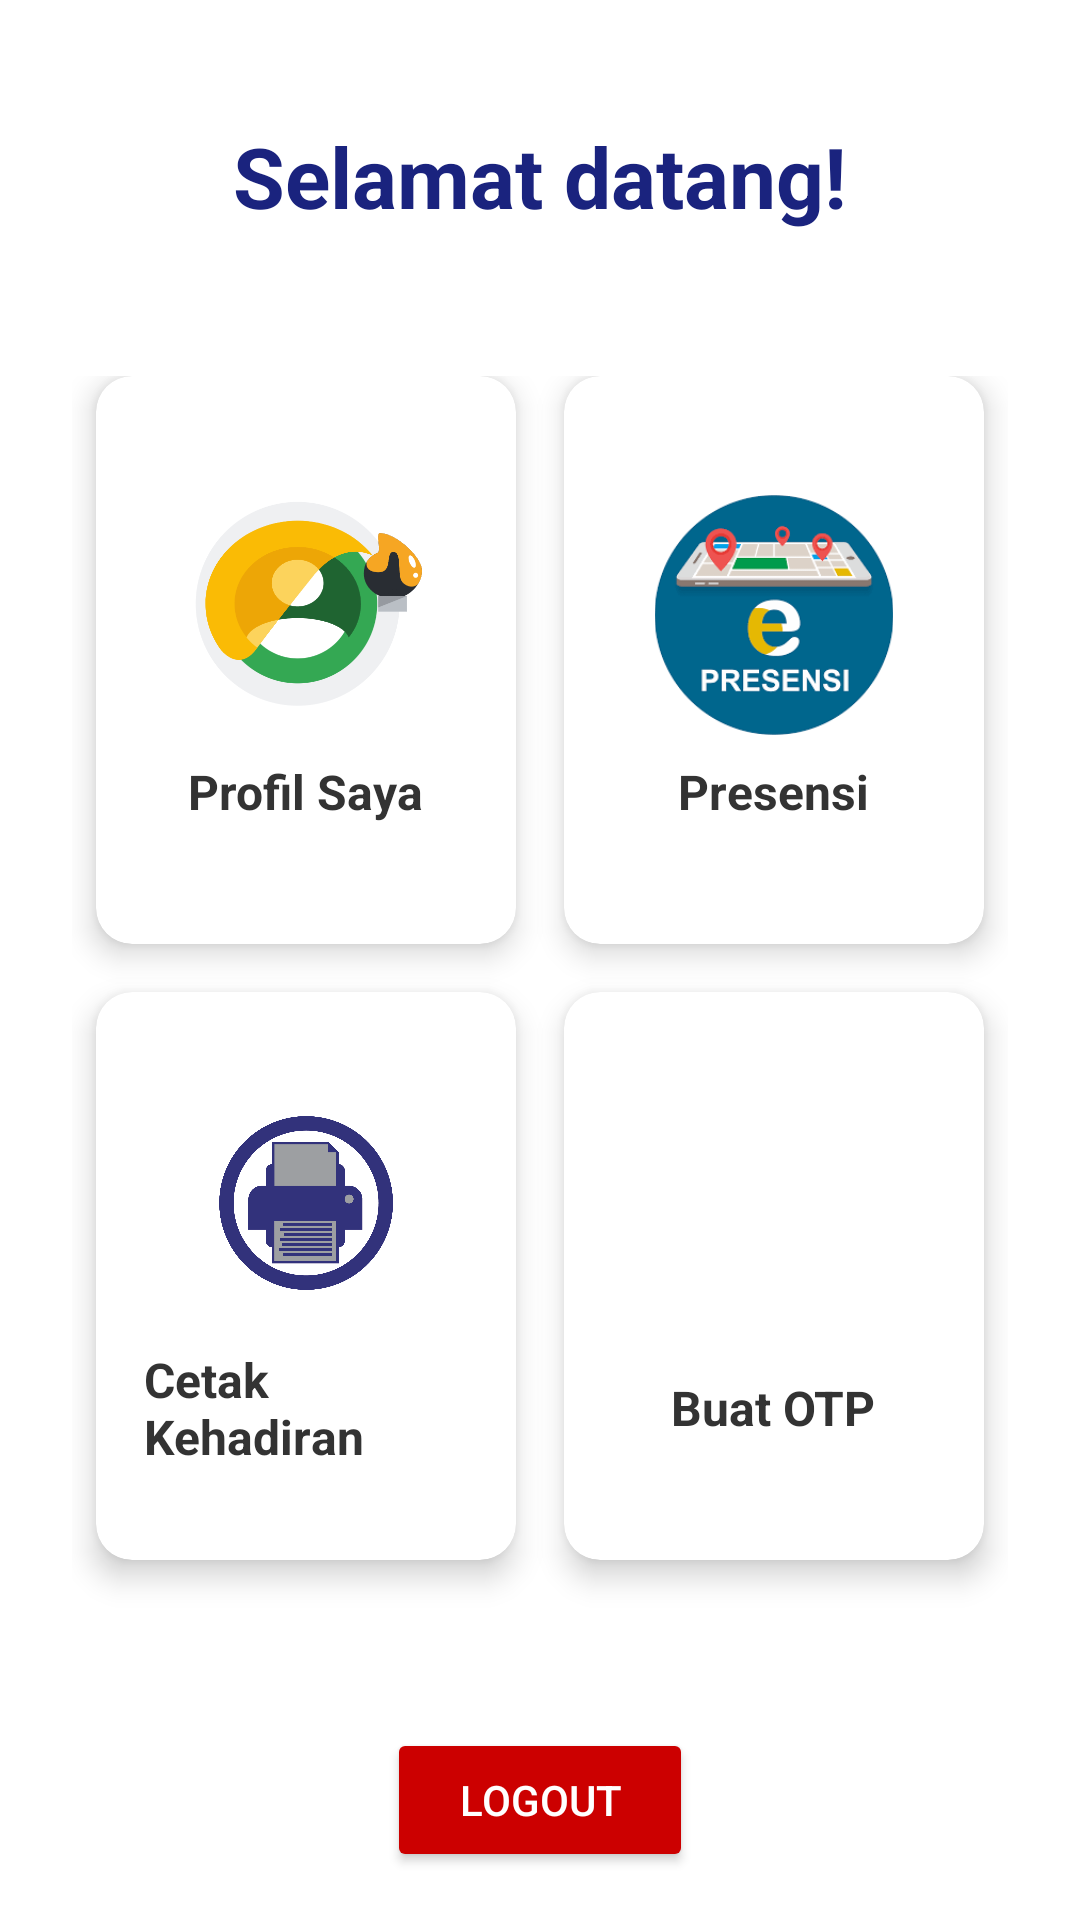

Point at icon controls on the screen. Image size 1080×1920, points as point (x, y).
Print Attendance: point (306, 1203)
